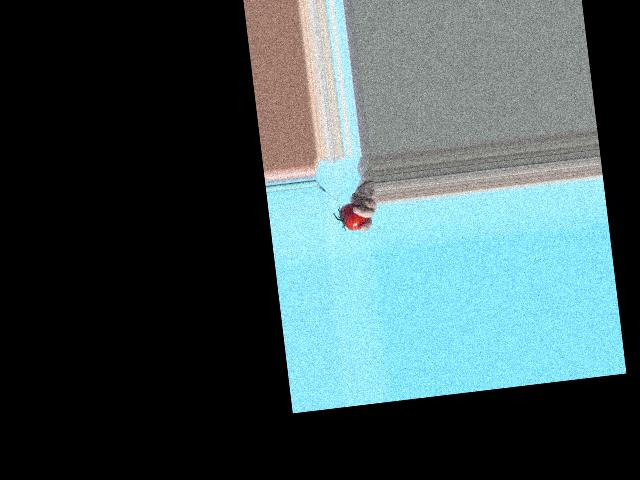tomato: (338, 201, 368, 232)
